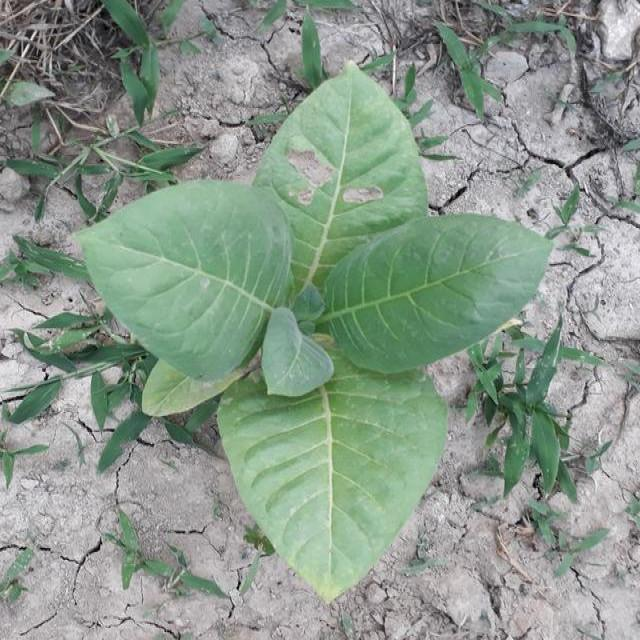crop: (78, 54, 554, 599)
